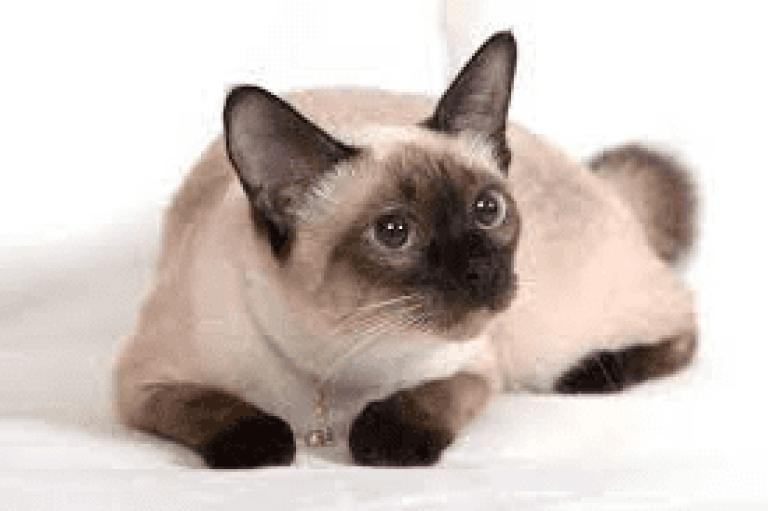siamese: (221, 26, 535, 380)
